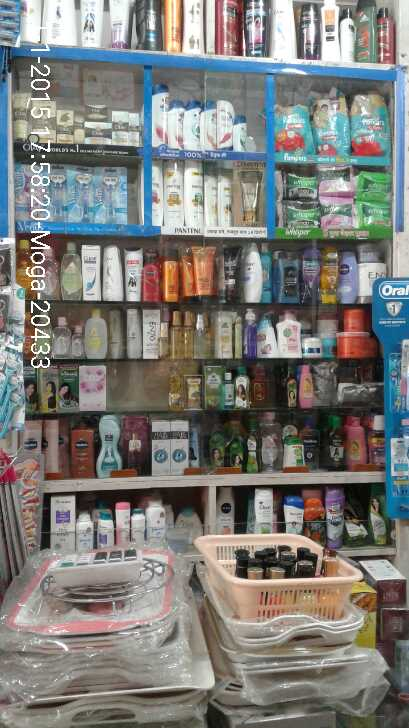venus: (92, 166, 127, 223), (16, 162, 43, 221), (65, 164, 91, 223), (43, 164, 65, 222)
